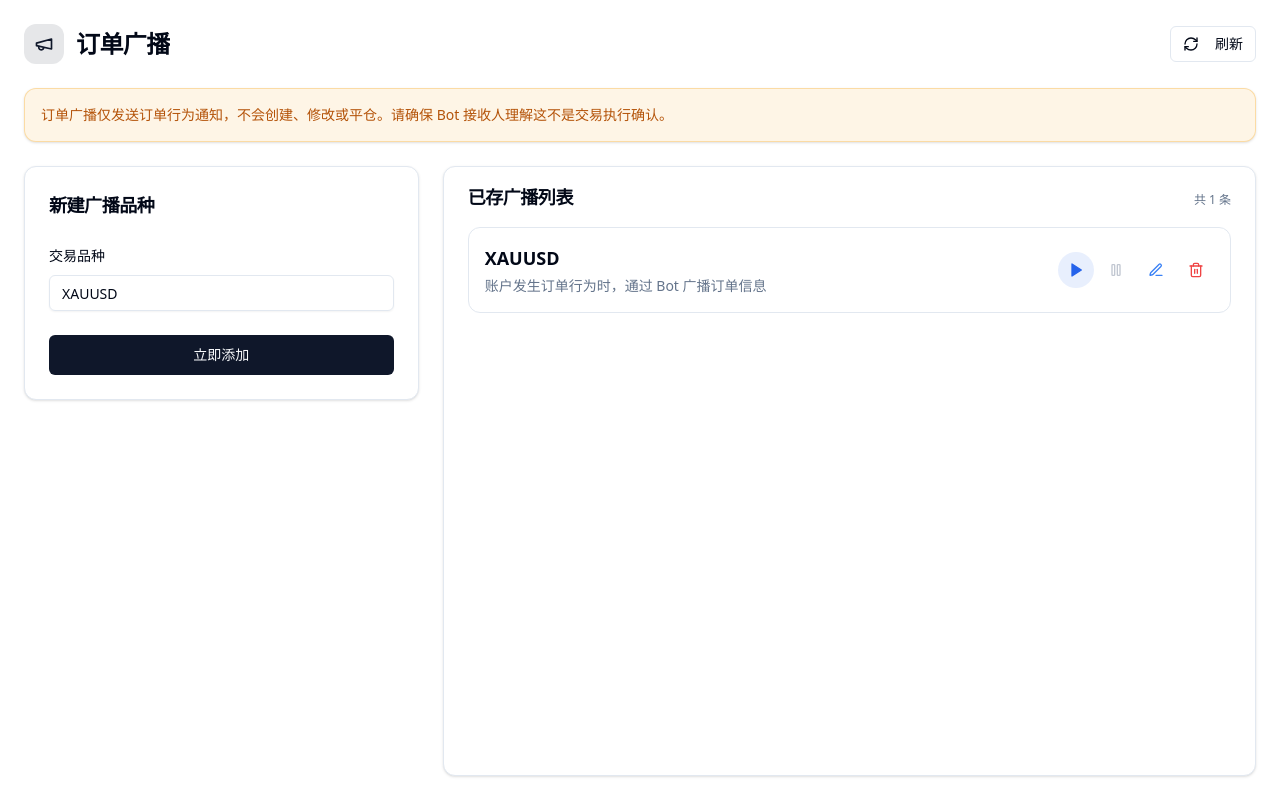
Scenario: OrderBroadcastPage › prevents creating a duplicate broadcast symbol
Step 1. Click the button "立即添加" → (221, 355), box [49,335,394,375]
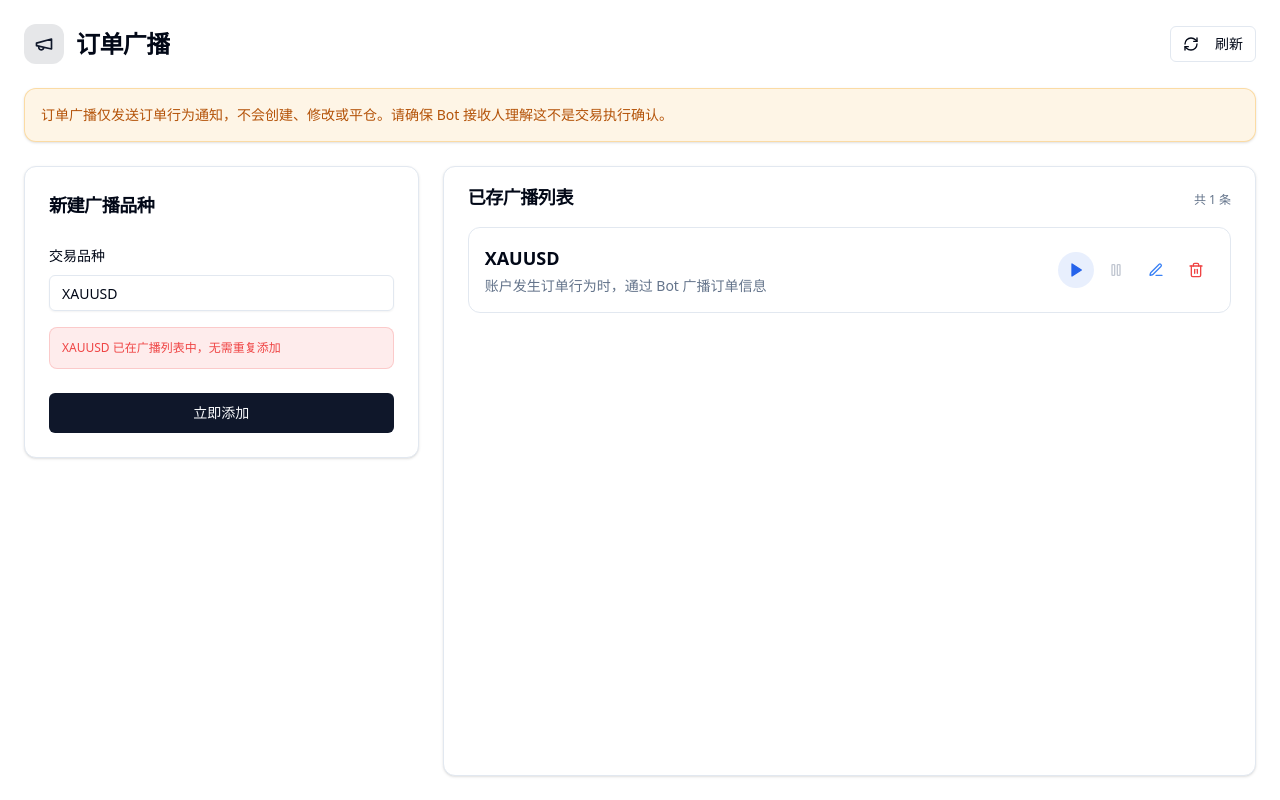
Now the text "XAUUSD 已在广播列表中，无需重复添加" is shown, box [49,327,394,369]
